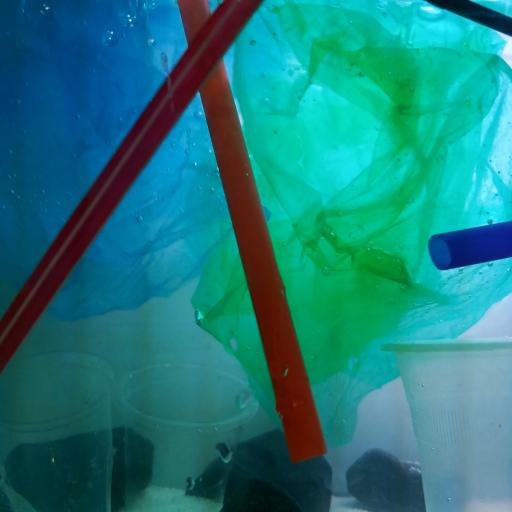plastic_bag: (195, 0, 512, 443), (1, 0, 235, 322)
plastic_cup: (380, 337, 512, 512), (114, 361, 260, 512), (0, 349, 116, 512)
plastic_straw: (1, 0, 265, 374), (176, 0, 328, 464), (428, 221, 512, 272), (424, 0, 512, 39)
